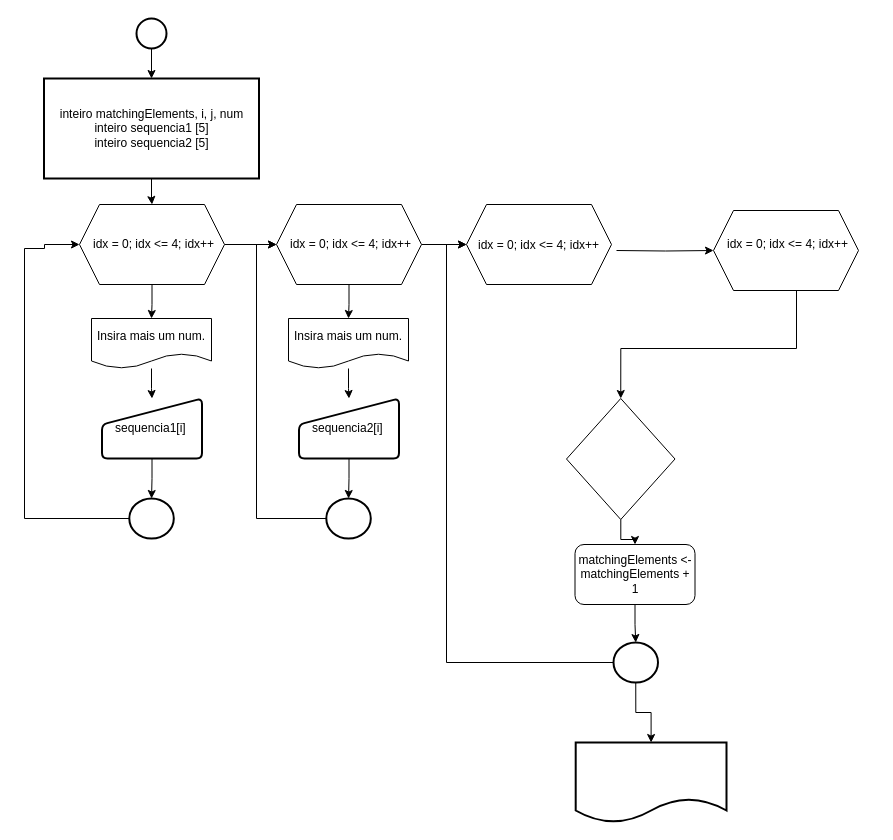
The diagram is 893 pixels wide and 840 high, and some of its shapes have lost their labels. The shapes that lost their labels are listed below. From the top down, each one's box as (x1, y1, x2, y2) in pixels, then its label:
(566, 398, 675, 520): sequencia1[j] == sequencia2[i]
(574, 741, 727, 823): matchingElements, " elementos coincidem nas duas sequencias!"
